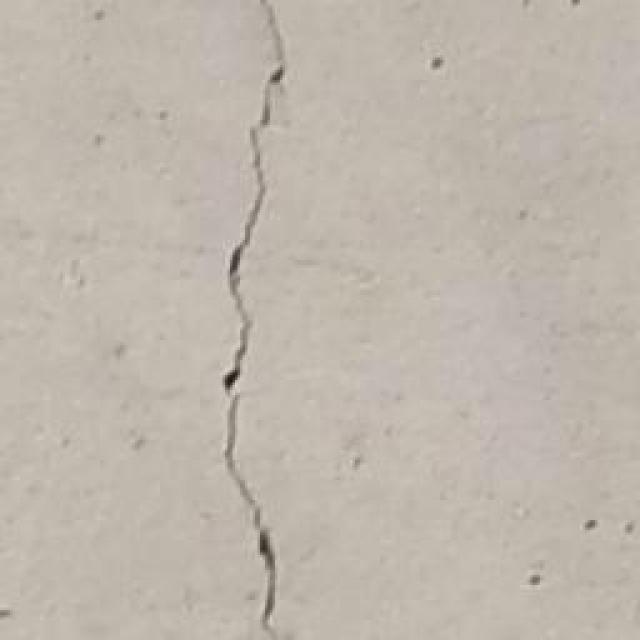concrete-crack: (222, 0, 285, 628)
